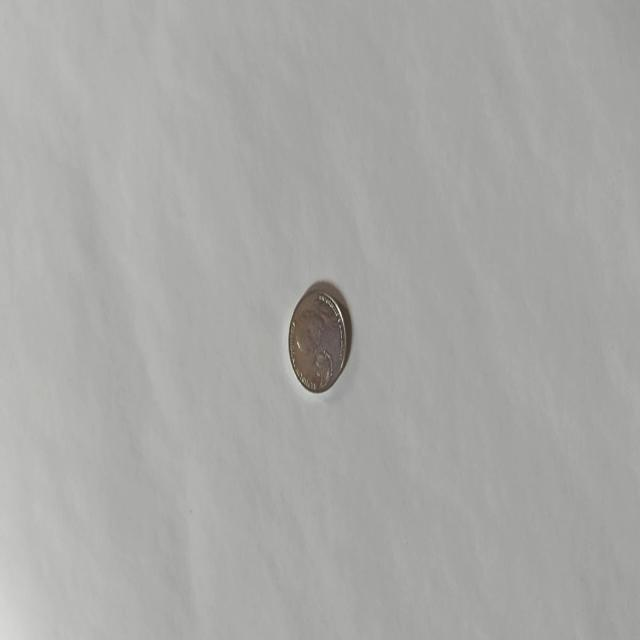lima ratus rupiah: (286, 284, 348, 394)
